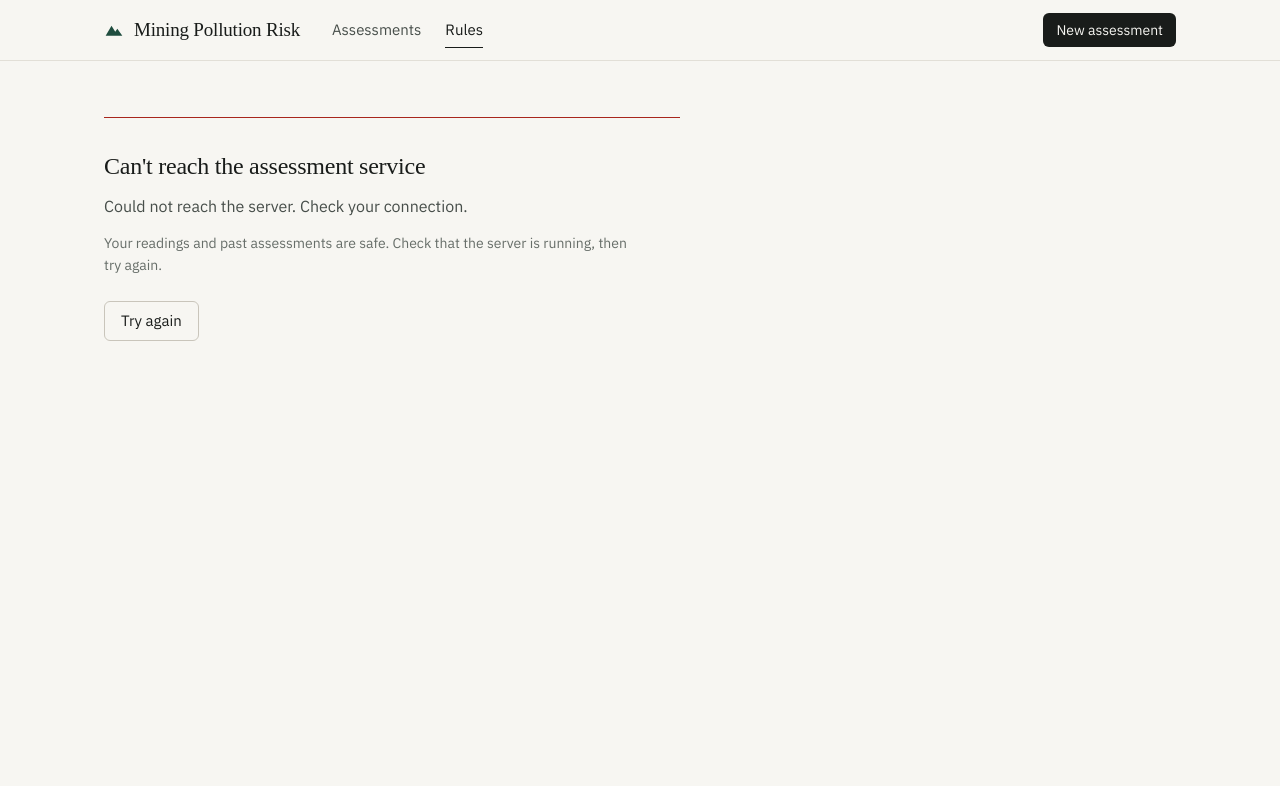
Test: Layout › explains when the server cannot be reached and recovers on retry
Expected: the heading "Can't reach the assessment service" is shown, [104,150,425,182]
Expected: the text "Could not reach the server. Check your connection." is shown, [104,194,468,220]
Click the button "Try again": [151, 321] box [104,301,199,341]
(page scrolled)
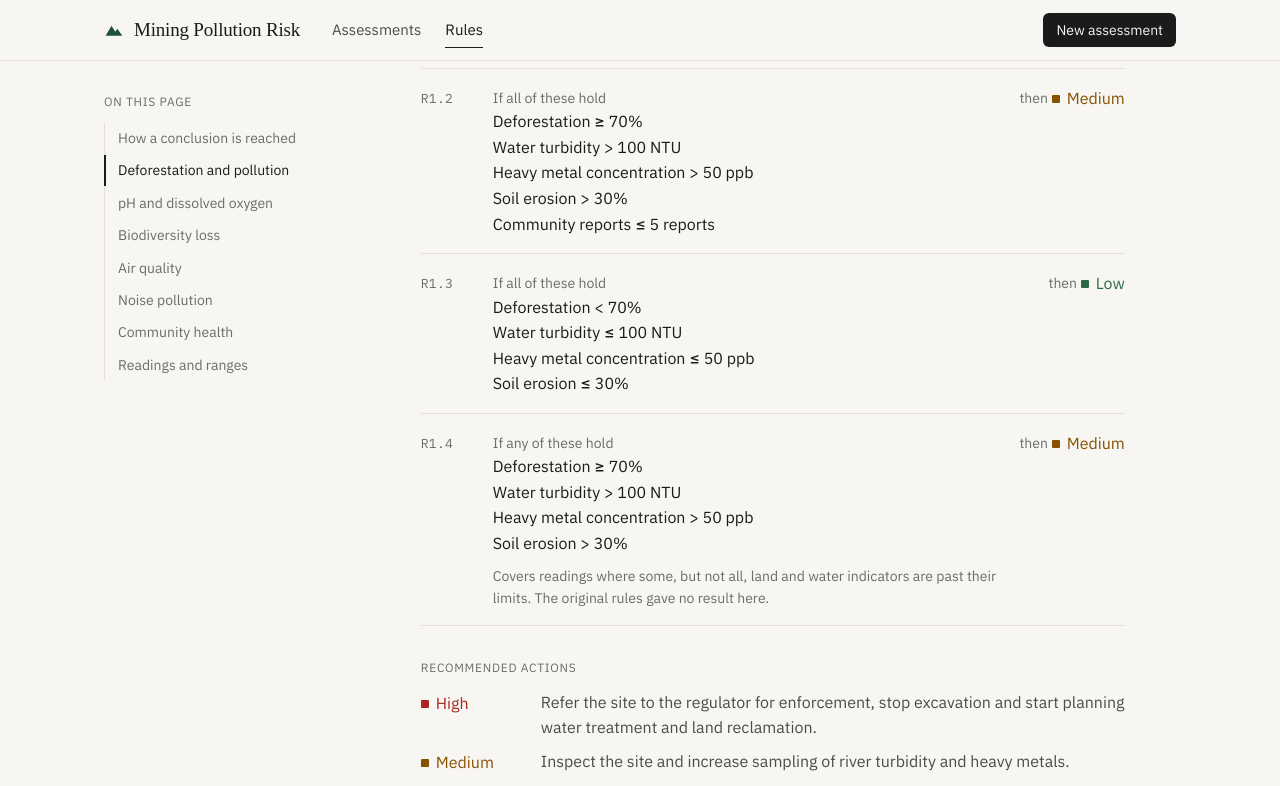
Expected: the text "R1.4" is shown, [421,435,453,452]
